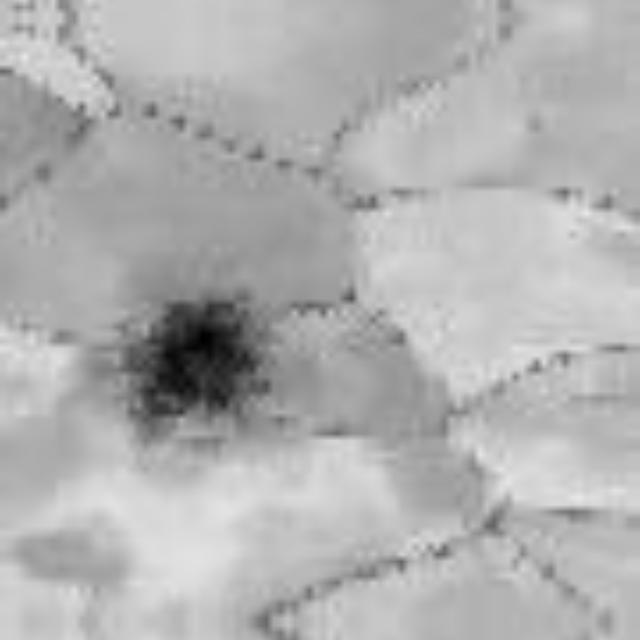good_void: (104, 288, 273, 445)
